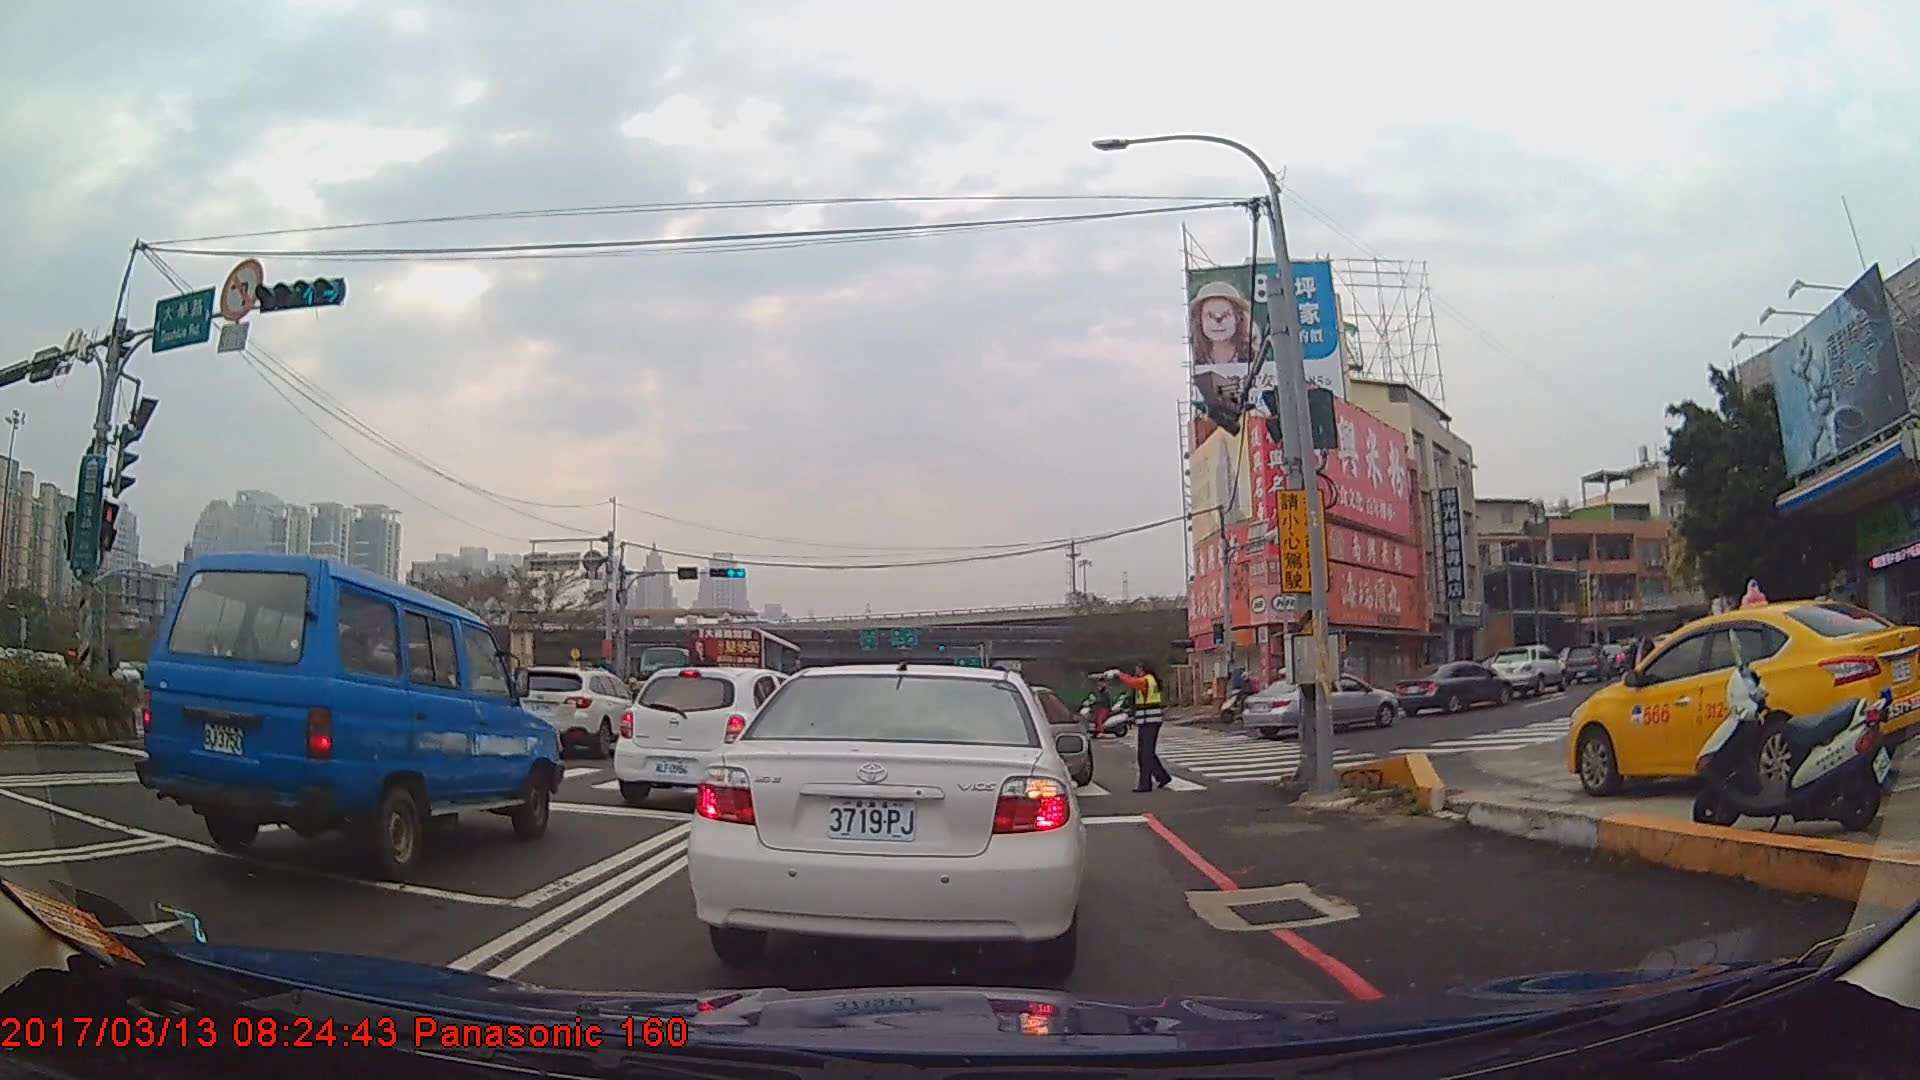pedestrian: (1095, 658, 1173, 792), (1620, 625, 1661, 720)
rider: (1071, 682, 1131, 739), (1217, 669, 1262, 723)
vehicle: (114, 546, 556, 880), (686, 656, 1084, 969), (1566, 599, 1920, 797), (614, 666, 828, 809), (508, 664, 644, 755), (689, 623, 804, 716), (1242, 671, 1399, 740), (1394, 659, 1509, 716), (1486, 643, 1567, 694), (1562, 641, 1611, 687)
